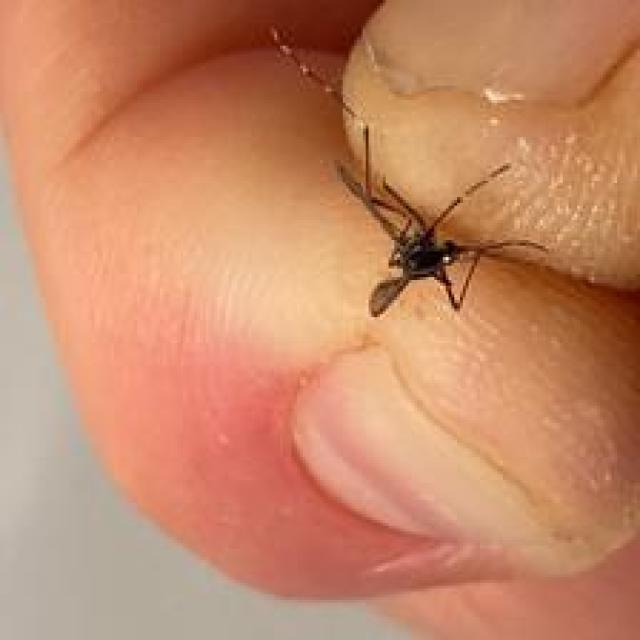Aedes albopictus: (334, 123, 549, 320)
